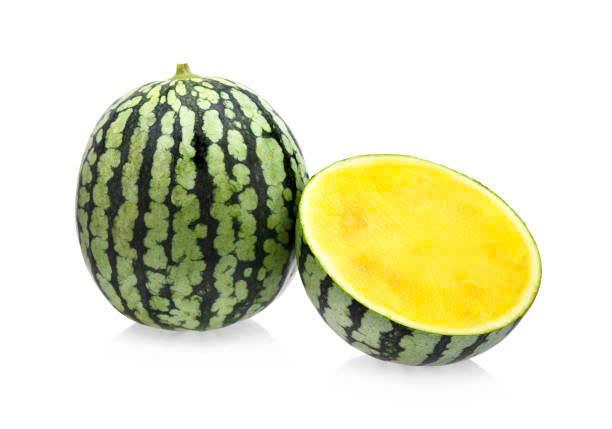watermelon: (68, 68, 296, 335), (296, 147, 541, 367)
